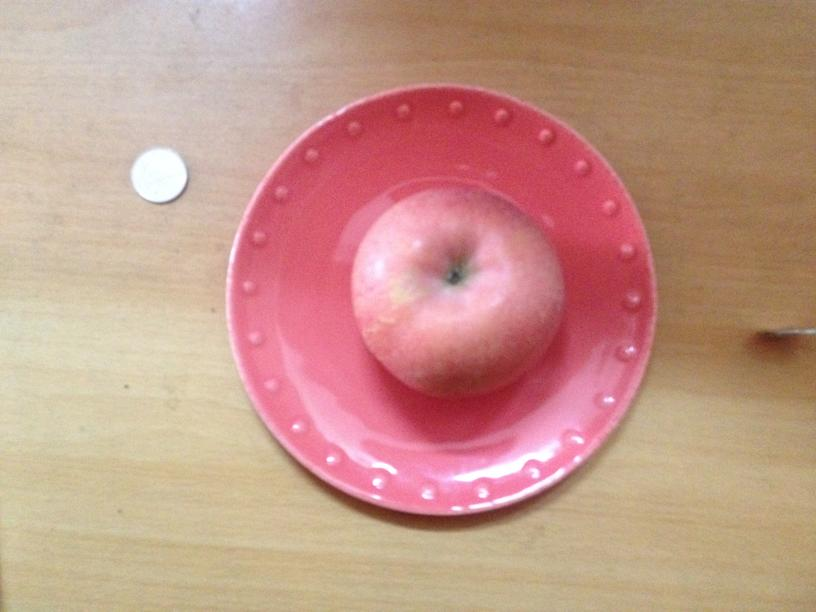apple: (351, 187, 566, 396)
coin: (130, 147, 188, 203)
